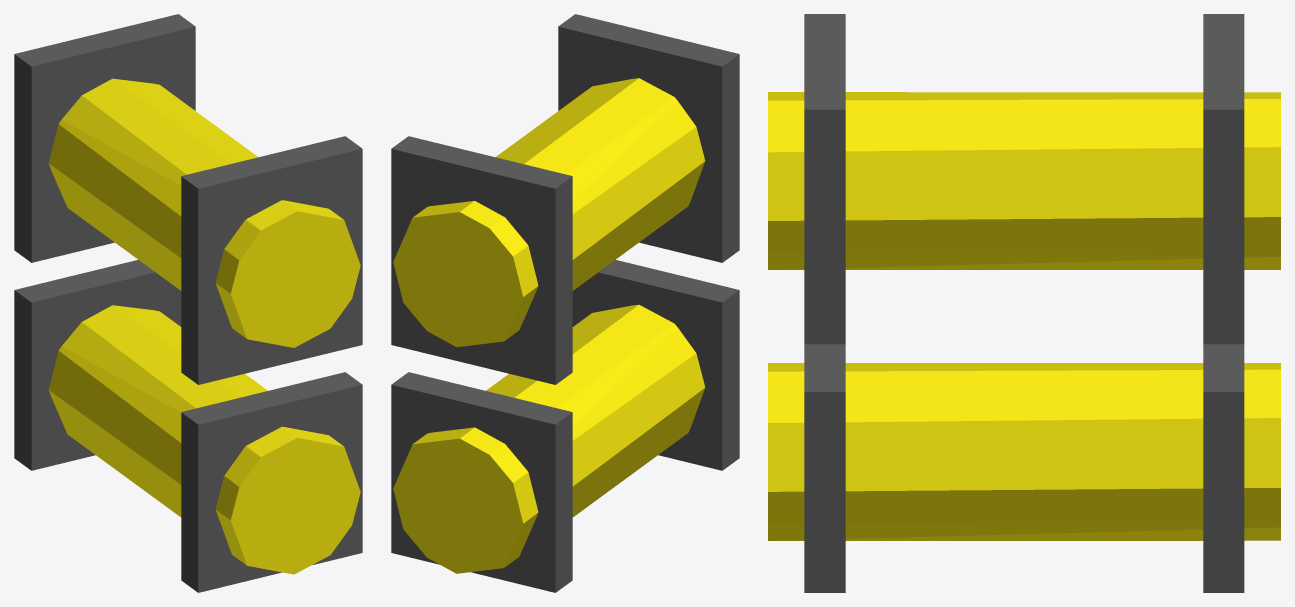
Rendered from Pipes.fbx.
3 renders of one model, left to right at view 1: azimuth 30°, elevation 25°; view 2: azimuth 150°, elevation 25°; view 3: azimuth 270°, elevation 25°, orthographic. The views are drawn at different scales.
Visible parts, largest first — view 1: Cylinder.001; view 2: Cylinder.001; view 3: Cylinder.001.
Part boxes in pixels (bbox=[...]): Cylinder.001: bbox=[14, 14, 362, 592]; Cylinder.001: bbox=[391, 14, 739, 592]; Cylinder.001: bbox=[768, 14, 1280, 592].
Bounding box in the file's own units: 256 × 601 × 578.
